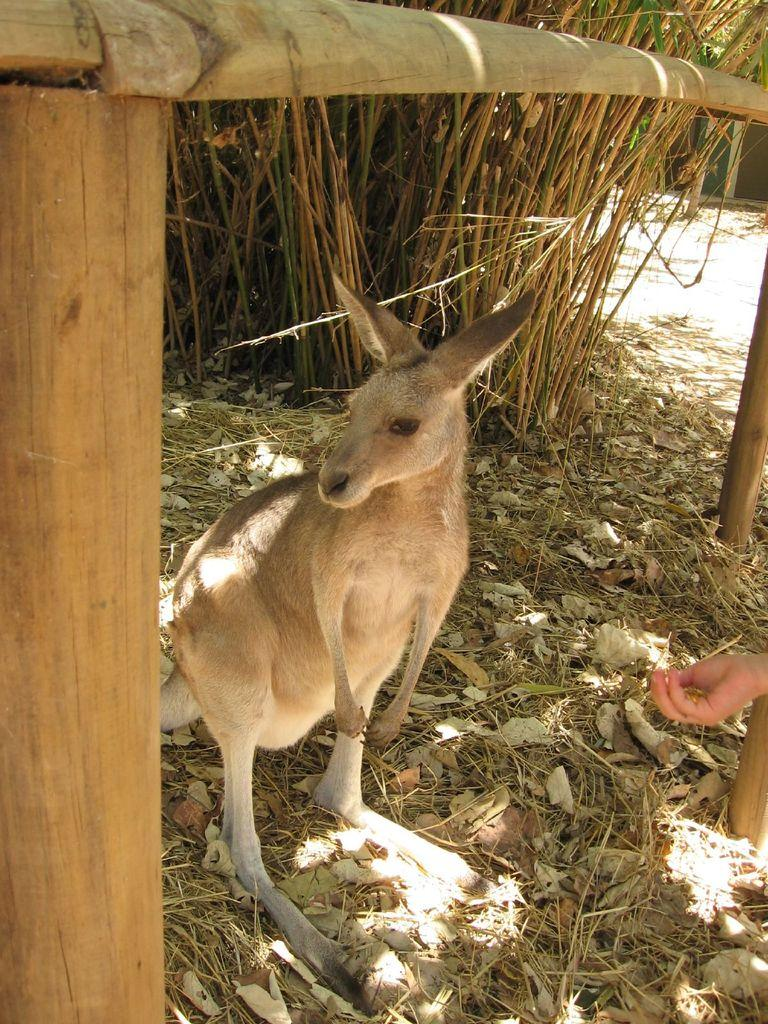kangaroo: (158, 266, 538, 1012)
